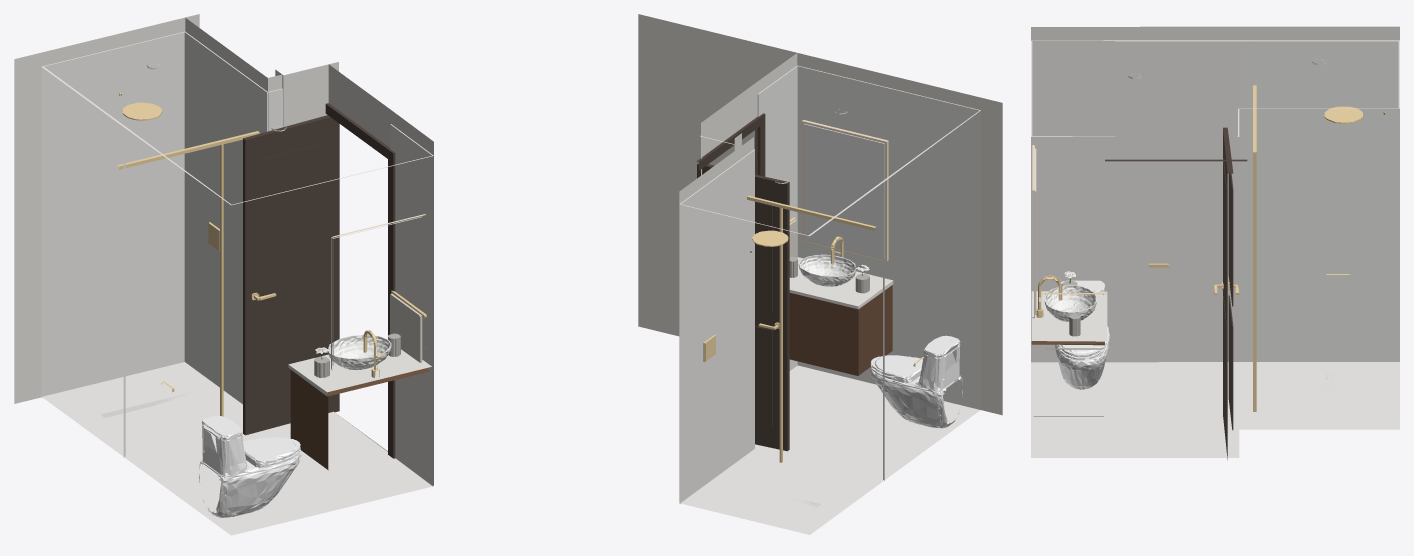
Rendered from MBATH.glb.
3 renders of one model, left to right at view 1: azimuth 30°, elevation 25°; view 2: azimuth 150°, elevation 25°; view 3: azimuth 270°, elevation 25°, orthographic. The views are drawn at different scales.
Parts seen in each view (by area): view 1: WEB_MBATH; view 2: WEB_MBATH; view 3: WEB_MBATH.
Part boxes in pixels (box(x1,y1,x2,y2)): WEB_MBATH: box(14, 14, 433, 535); WEB_MBATH: box(638, 14, 1002, 534); WEB_MBATH: box(1031, 26, 1399, 459).
Bounding box in the file's own units: 3.08 × 2.5 × 2.49.
